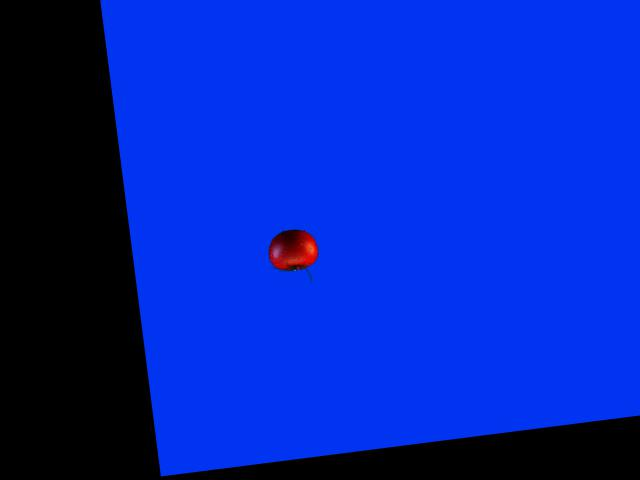tomato: (265, 226, 319, 272)
